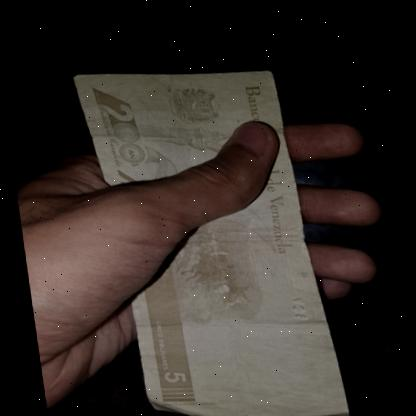five-back-vef: (68, 49, 344, 416)
